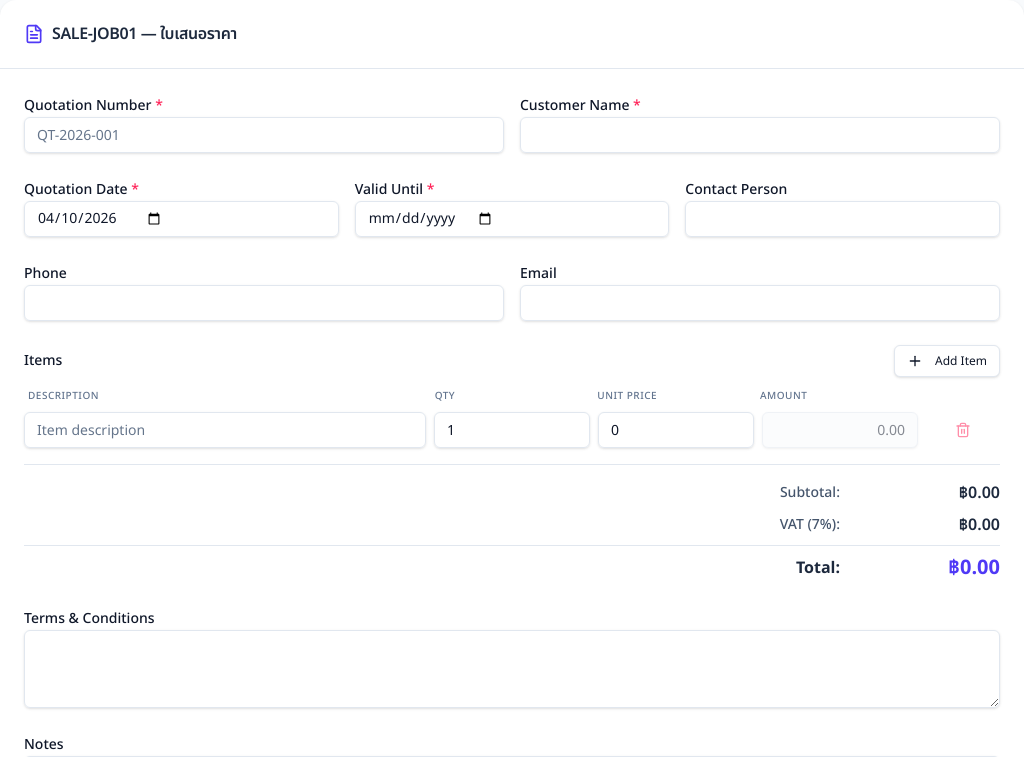
Scenario: FormSaleQuotationPage › calculates subtotal and total when quantity and unit_price are entered
Replace the text in the 1st number field showing "1" with "2" at (512, 430), box [434, 412, 590, 448]
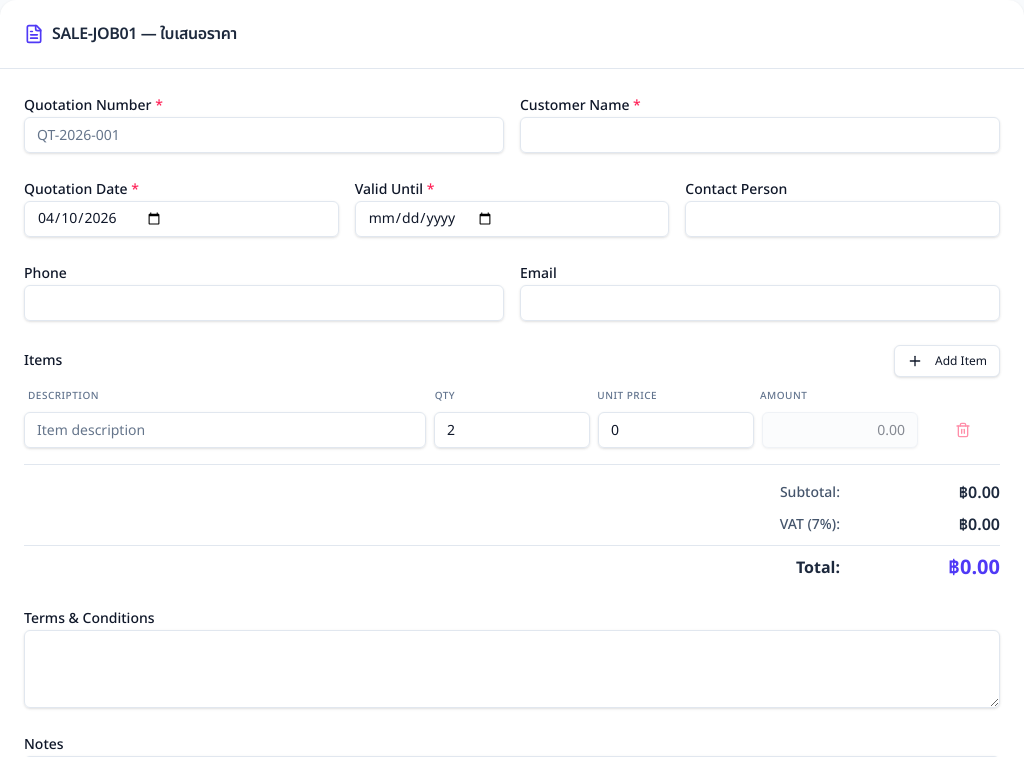
Replace the text in the 2nd number field showing "0" with "100" at (676, 430), box [598, 412, 754, 448]
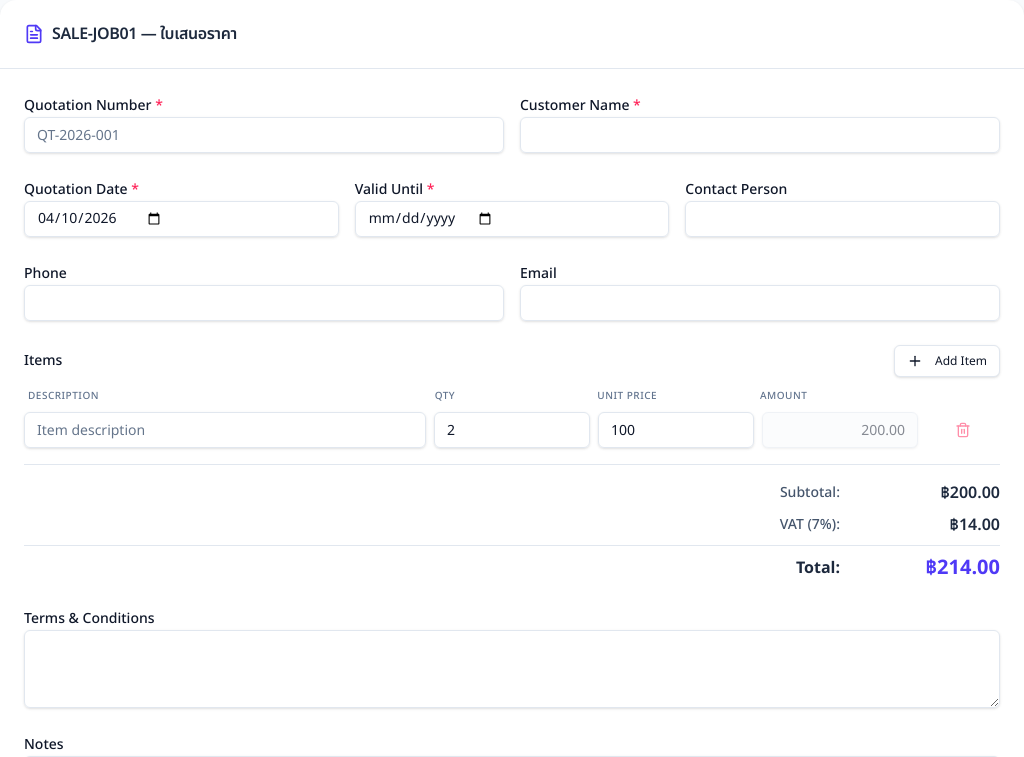
Expected: the field showing "200.00" is shown, [762, 412, 918, 448]
Expected: the text "฿200.00" is shown, [940, 481, 1000, 505]
Expected: the text "฿14.00" is shown, [950, 513, 1000, 537]
